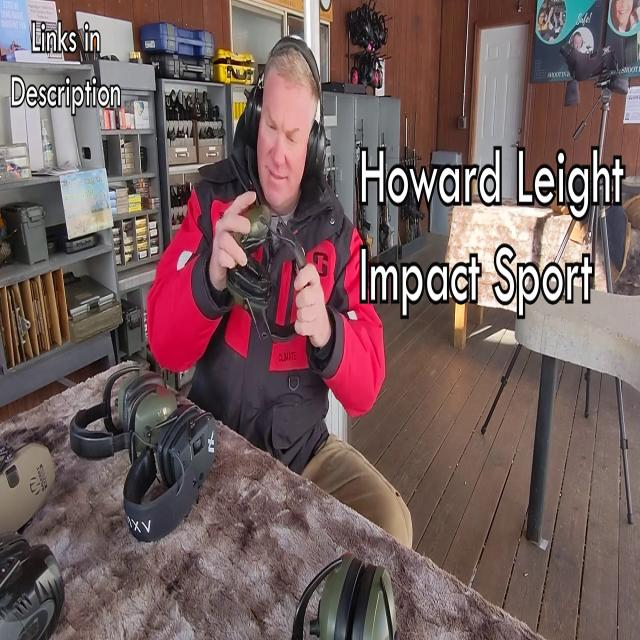earmuff: (226, 258, 276, 316), (229, 202, 275, 260), (301, 115, 329, 185), (240, 74, 266, 138)
